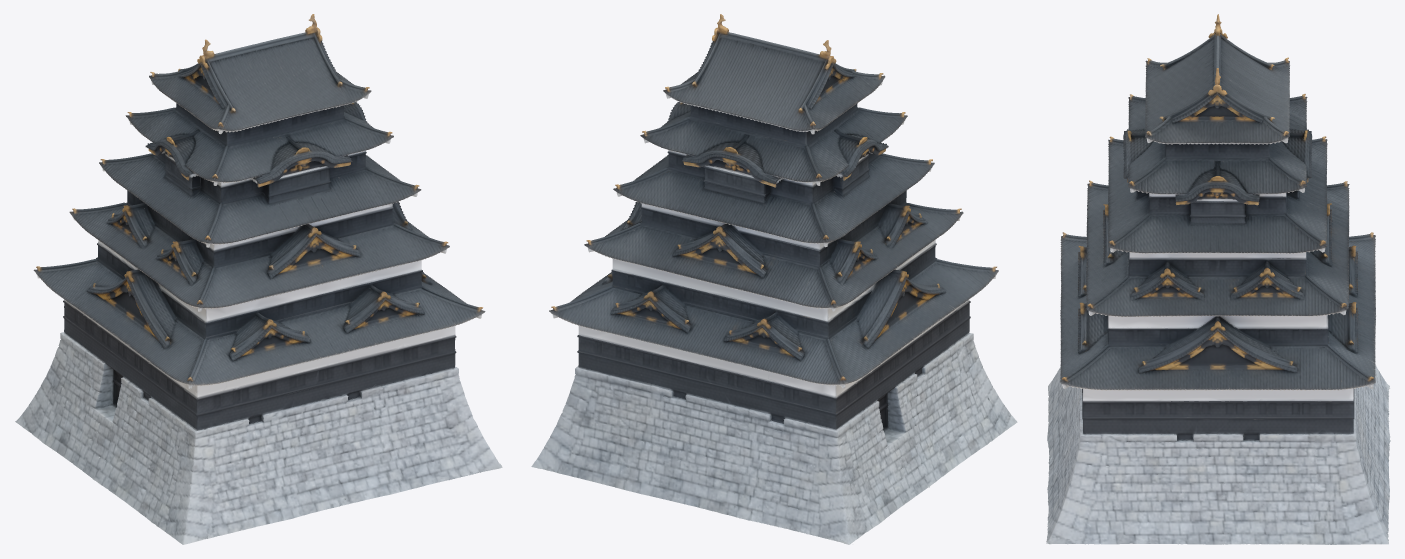
3 renders of one model, left to right at view 1: azimuth 30°, elevation 25°; view 2: azimuth 150°, elevation 25°; view 3: azimuth 270°, elevation 25°, orthographic.
Visible parts, largest first — view 1: refine__0; view 2: refine__0; view 3: refine__0.
Part boxes in pixels (bbox=[...]): refine__0: bbox=[15, 14, 502, 544]; refine__0: bbox=[531, 14, 1017, 544]; refine__0: bbox=[1046, 14, 1390, 544].
Size of the model in its own units: 0.485 by 0.5992 by 0.4405.
1 material, 1 textured.
